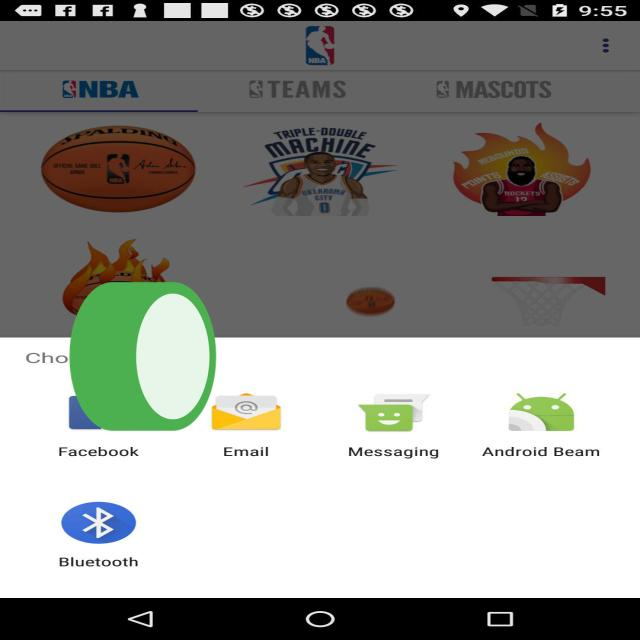social proof: (63, 225, 223, 499)
